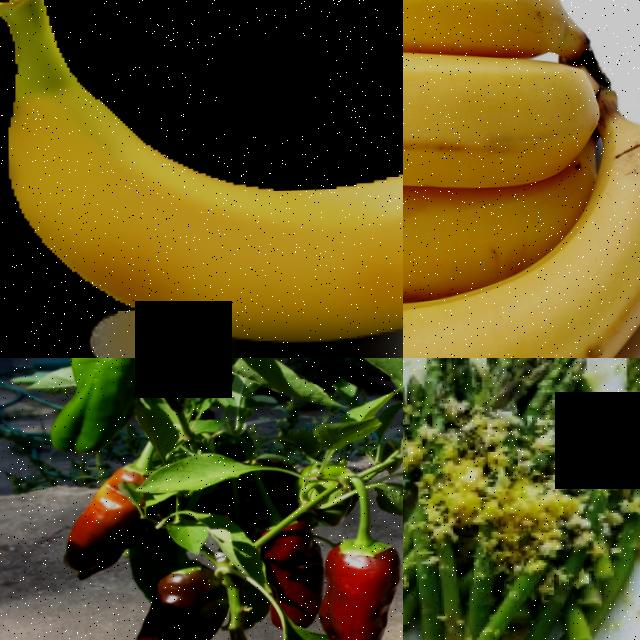banana: (0, 0, 403, 358), (403, 0, 640, 358)
peper: (35, 358, 139, 468), (49, 458, 146, 574), (305, 547, 403, 640), (114, 566, 216, 640), (260, 526, 311, 620)
